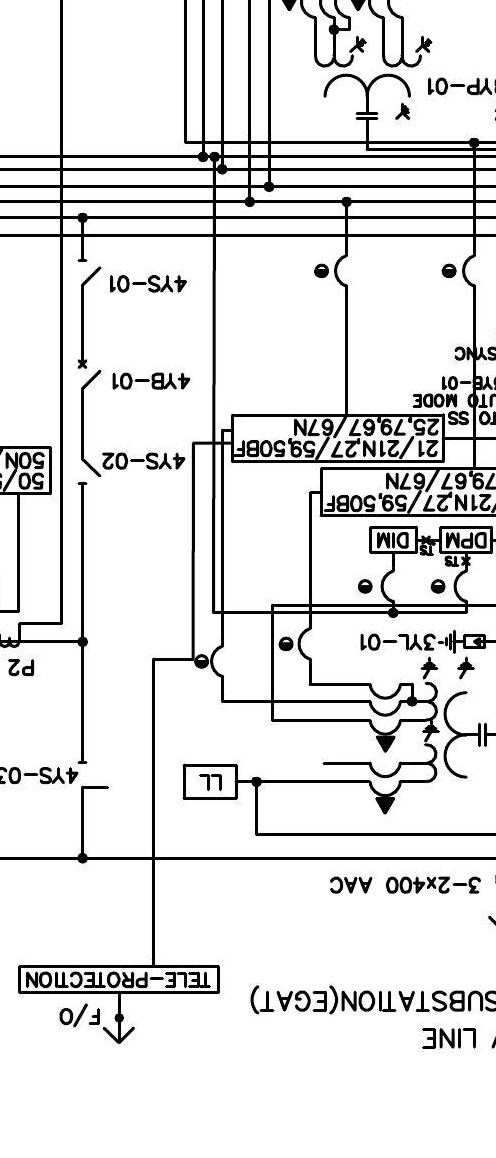115_breaker: (77, 359, 102, 390)
115_cvt_1p: (368, 655, 487, 816)
115_cvt_3p: (313, 35, 433, 120)
115_ds: (77, 760, 110, 790), (76, 259, 102, 287), (77, 459, 102, 485)
115_la: (437, 629, 486, 655)
DIM: (368, 526, 418, 555)
DPM: (438, 526, 493, 555)
LL: (183, 764, 238, 800)
tele_protection: (17, 964, 221, 995)
